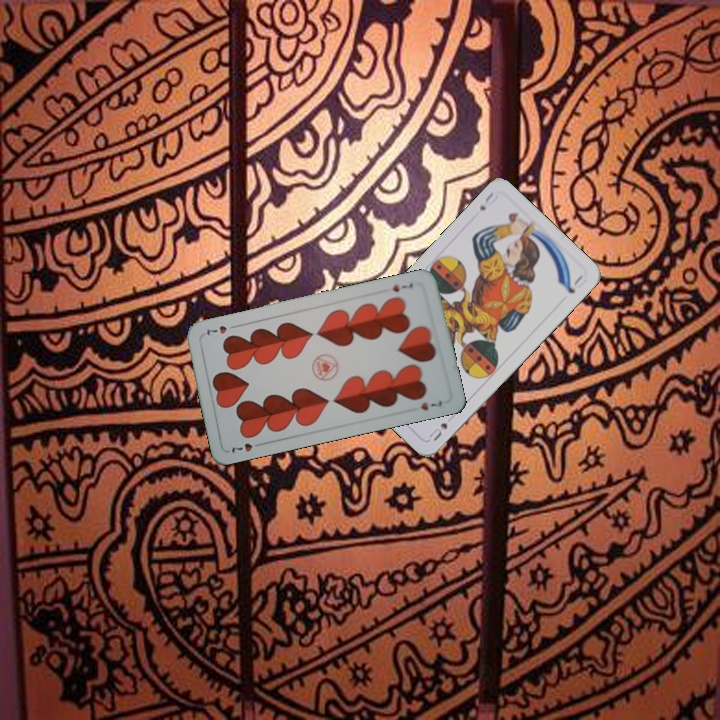H7: (227, 439, 266, 456), (388, 279, 416, 295)
SU: (425, 418, 450, 444), (475, 188, 501, 213)
